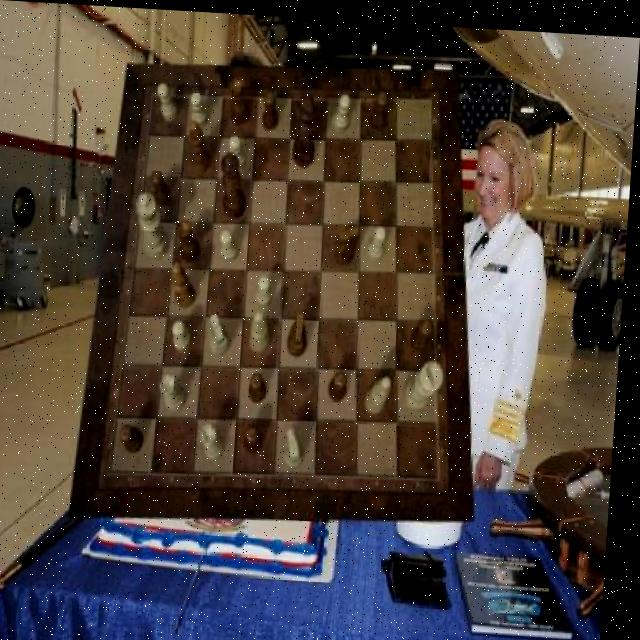bishop: (189, 117, 214, 172), (174, 260, 201, 307)
black-bishop: (292, 86, 319, 165)
black-king: (290, 308, 312, 353), (337, 223, 362, 262)
black-knight: (150, 166, 175, 205), (414, 314, 437, 347), (125, 424, 151, 453), (370, 87, 388, 126), (262, 88, 279, 127), (332, 367, 352, 399), (253, 370, 272, 402), (249, 423, 268, 452)
black-pawn: (218, 149, 249, 218)
black-queen: (178, 216, 204, 262), (229, 74, 252, 123)
black-rook: (369, 370, 395, 410), (253, 308, 276, 350)
white-bishop: (407, 353, 449, 406)
white-king: (212, 309, 237, 352), (288, 424, 311, 464)
white-knight: (156, 81, 181, 121), (368, 222, 389, 259), (192, 88, 211, 126), (334, 90, 352, 129), (221, 228, 242, 261), (175, 318, 196, 350), (230, 133, 249, 168), (259, 273, 277, 306)
white-pawn: (135, 190, 175, 258)
white-queen: (164, 372, 193, 411), (205, 420, 231, 457)
